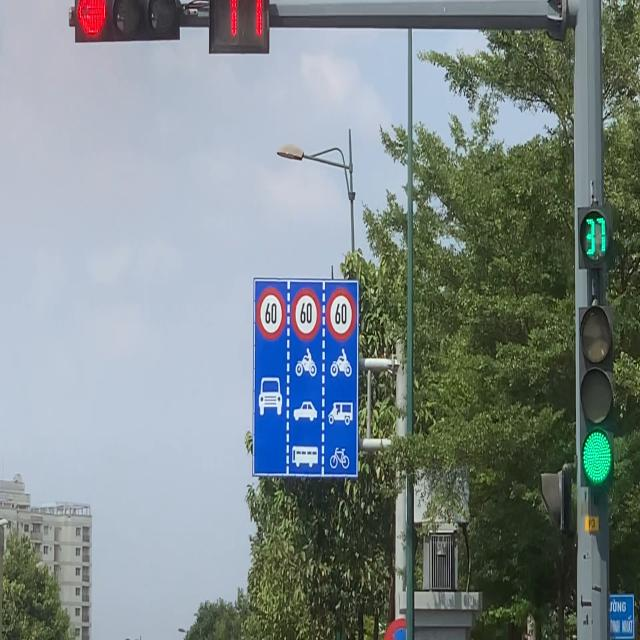Toc do toi da: (325, 288, 356, 342), (256, 286, 286, 341), (291, 288, 321, 341)
